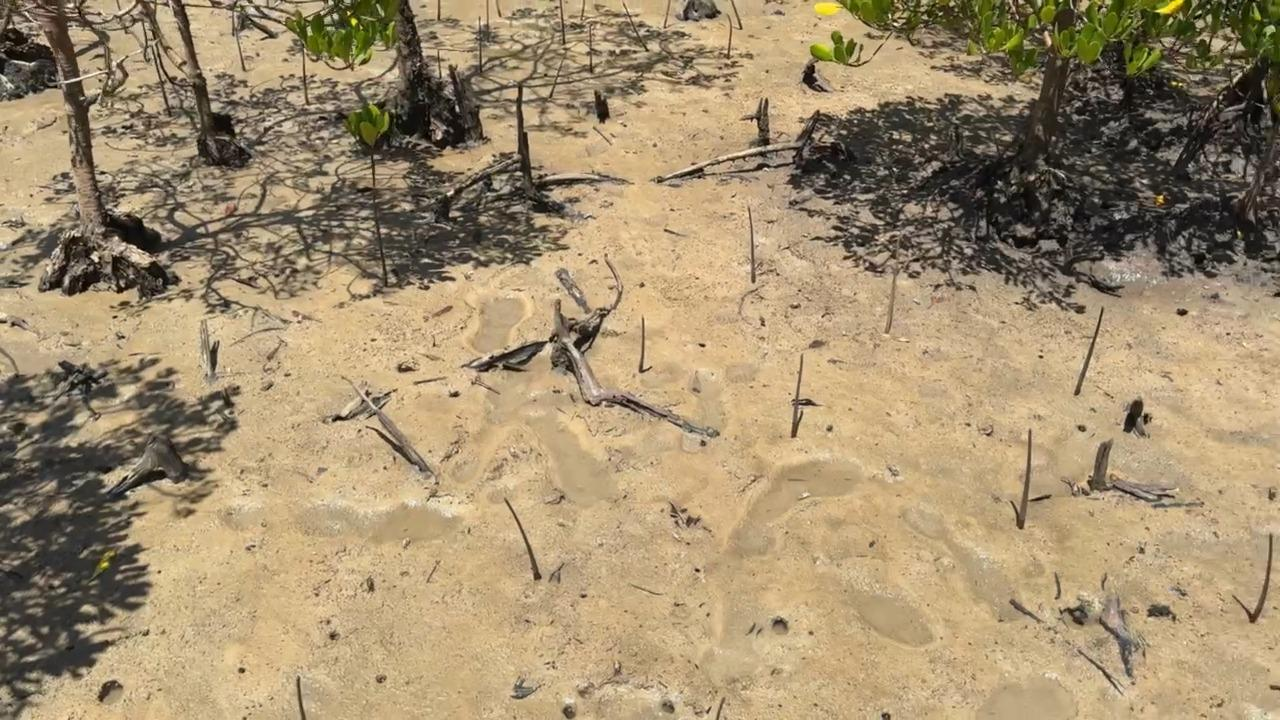Tree: (342, 105, 390, 287), (503, 495, 543, 578), (1074, 307, 1104, 396), (1251, 533, 1273, 623), (1017, 429, 1032, 530), (151, 46, 171, 118), (885, 239, 900, 333), (622, 2, 649, 51), (791, 353, 804, 437), (747, 206, 756, 283), (234, 25, 246, 72), (550, 59, 564, 97), (302, 50, 311, 105), (295, 676, 306, 720), (638, 314, 646, 373), (731, 0, 744, 29), (589, 26, 595, 72), (559, 0, 565, 44), (485, 0, 492, 34), (662, 0, 670, 28), (479, 17, 483, 72), (728, 15, 733, 59), (437, 49, 444, 77), (580, 0, 586, 20), (496, 0, 502, 17), (437, 0, 441, 20)
